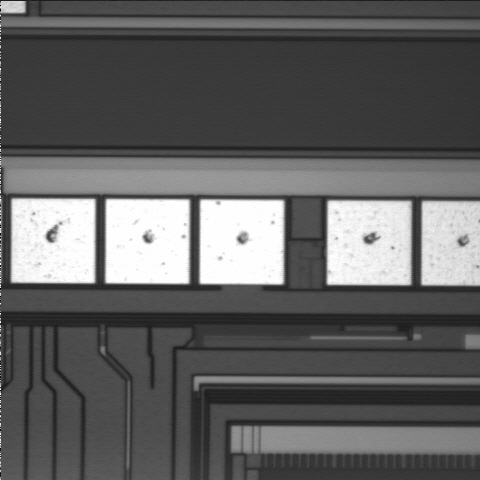pad: (105, 199, 190, 284), (200, 199, 284, 284), (11, 199, 95, 283), (327, 201, 411, 285)
